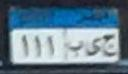1: (33, 34, 44, 58), (47, 34, 57, 57), (21, 34, 30, 56)
baa: (66, 38, 84, 57)
jeem: (102, 33, 117, 58)
yaa: (85, 35, 101, 58)
